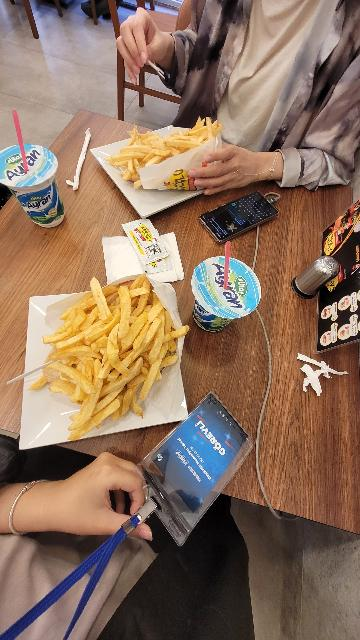Kagit: (292, 346, 351, 402), (66, 126, 91, 196)
Metal: (294, 251, 337, 307)
Organik: (55, 286, 173, 422), (117, 127, 213, 185)
Plastik: (142, 376, 269, 555), (190, 248, 265, 346), (98, 217, 194, 289), (0, 139, 67, 234)
